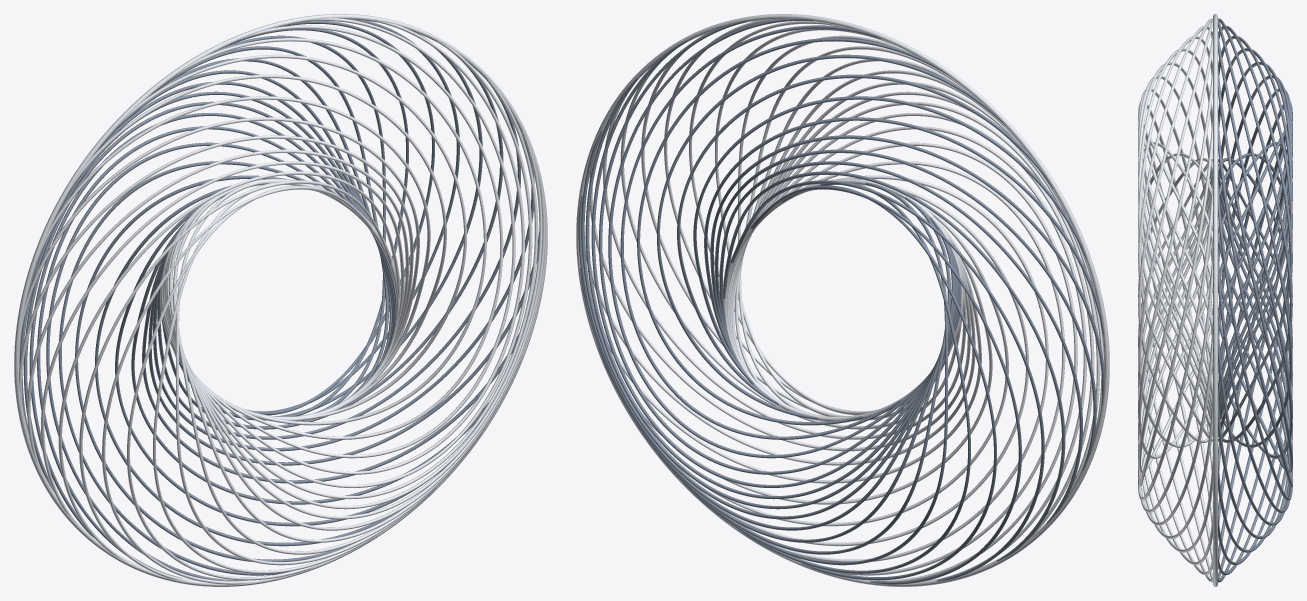
3 views of the same model, side by side, from view 1: azimuth 30°, elevation 25°; view 2: azimuth 150°, elevation 25°; view 3: azimuth 270°, elevation 25° (orthographic). The views are drawn at different scales.
Visible parts, largest first — view 1: ONE — aro circular externo, ONE — nervura contínua 7, ONE — nervura contínua 4, ONE — nervura contínua 5, ONE — nervura contínua 6, ONE — nervura contínua 8, ONE — nervura contínua 3, ONE — nervura contínua 9, ONE — nervura contínua 15, ONE — nervura contínua 14, ONE — nervura contínua 16, ONE — nervura contínua 10 (+38 smaller); view 2: ONE — aro circular externo, ONE — nervura contínua 7 — verso, ONE — nervura contínua 4 — verso, ONE — nervura contínua 5 — verso, ONE — nervura contínua 6 — verso, ONE — nervura contínua 8 — verso, ONE — nervura contínua 3 — verso, ONE — nervura contínua 9 — verso, ONE — nervura contínua 15 — verso, ONE — nervura contínua 14 — verso, ONE — nervura contínua 16 — verso, ONE — nervura contínua 10 — verso (+38 smaller); view 3: ONE — aro circular externo, ONE — nervura contínua 6, ONE — nervura contínua 6 — verso, ONE — nervura contínua 4, ONE — nervura contínua 4 — verso, ONE — nervura contínua 5, ONE — nervura contínua 5 — verso, ONE — nervura contínua 7, ONE — nervura contínua 7 — verso, ONE — nervura contínua 8, ONE — nervura contínua 8 — verso, ONE — nervura contínua 3 (+37 smaller).
Part boxes in pixels (left/top/right/bottom): ONE — aro circular externo: left=14, top=14, right=547, bottom=586; ONE — nervura contínua 7: left=222, top=25, right=503, bottom=439; ONE — nervura contínua 4: left=162, top=41, right=532, bottom=487; ONE — nervura contínua 5: left=171, top=21, right=524, bottom=474; ONE — nervura contínua 6: left=201, top=18, right=515, bottom=458; ONE — nervura contínua 8: left=175, top=38, right=486, bottom=425; ONE — nervura contínua 3: left=162, top=78, right=538, bottom=499; ONE — nervura contínua 9: left=117, top=54, right=466, bottom=419; ONE — nervura contínua 15: left=41, top=161, right=404, bottom=523; ONE — nervura contínua 14: left=27, top=149, right=408, bottom=470; ONE — nervura contínua 16: left=58, top=171, right=400, bottom=561; ONE — nervura contínua 10: left=70, top=74, right=446, bottom=405; ONE — aro circular externo: left=576, top=14, right=1109, bottom=586; ONE — nervura contínua 7 — verso: left=620, top=25, right=901, bottom=439; ONE — nervura contínua 4 — verso: left=591, top=41, right=961, bottom=487; ONE — nervura contínua 5 — verso: left=599, top=21, right=952, bottom=474; ONE — nervura contínua 6 — verso: left=608, top=18, right=922, bottom=458; ONE — nervura contínua 8 — verso: left=637, top=38, right=948, bottom=425; ONE — nervura contínua 3 — verso: left=585, top=78, right=961, bottom=499; ONE — nervura contínua 9 — verso: left=657, top=54, right=1006, bottom=419; ONE — nervura contínua 15 — verso: left=719, top=161, right=1082, bottom=523; ONE — nervura contínua 14 — verso: left=715, top=149, right=1096, bottom=470; ONE — nervura contínua 16 — verso: left=723, top=171, right=1065, bottom=561; ONE — nervura contínua 10 — verso: left=677, top=74, right=1053, bottom=405; ONE — aro circular externo: left=1213, top=14, right=1217, bottom=586; ONE — nervura contínua 6: left=1138, top=64, right=1212, bottom=472; ONE — nervura contínua 6 — verso: left=1218, top=64, right=1292, bottom=472; ONE — nervura contínua 4: left=1138, top=174, right=1212, bottom=500; ONE — nervura contínua 4 — verso: left=1218, top=174, right=1292, bottom=500; ONE — nervura contínua 5: left=1138, top=112, right=1212, bottom=487; ONE — nervura contínua 5 — verso: left=1218, top=112, right=1292, bottom=487; ONE — nervura contínua 7: left=1138, top=32, right=1212, bottom=458; ONE — nervura contínua 7 — verso: left=1218, top=32, right=1292, bottom=458; ONE — nervura contínua 8: left=1138, top=18, right=1212, bottom=447; ONE — nervura contínua 8 — verso: left=1218, top=18, right=1292, bottom=447; ONE — nervura contínua 3: left=1138, top=217, right=1212, bottom=512.
Bounding box in the file's own units: 1.77 × 1.77 × 0.4795.
